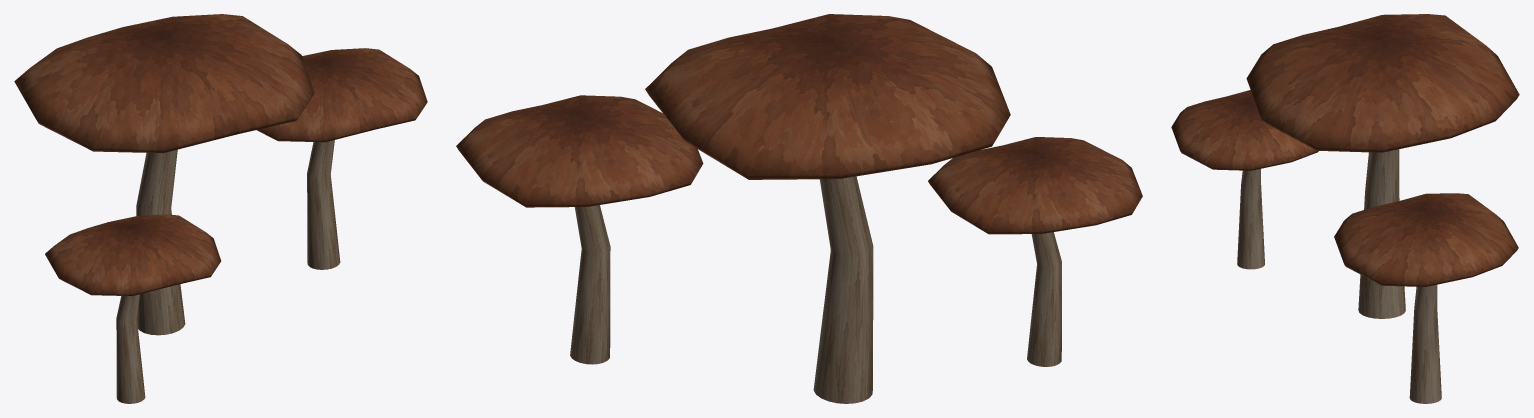
The picture shows the model from 3 angles, left to right: view 1: azimuth 30°, elevation 25°; view 2: azimuth 150°, elevation 25°; view 3: azimuth 270°, elevation 25°; orthographic projection. The views are drawn at different scales.
Visible parts, largest first — view 1: Broad umbrella cap, Broad umbrella cap.002, Broad umbrella cap.001, Curved supporting stem, Curved supporting stem.001, Curved supporting stem.002; view 2: Broad umbrella cap, Broad umbrella cap.001, Broad umbrella cap.002, Curved supporting stem, Curved supporting stem.001, Curved supporting stem.002; view 3: Broad umbrella cap, Broad umbrella cap.001, Broad umbrella cap.002, Curved supporting stem, Curved supporting stem.001, Curved supporting stem.002.
Part boxes in pixels (bbox=[...]): Broad umbrella cap: bbox=[14, 14, 314, 153]; Broad umbrella cap.002: bbox=[45, 214, 221, 296]; Broad umbrella cap.001: bbox=[256, 48, 427, 142]; Curved supporting stem: bbox=[136, 149, 185, 335]; Curved supporting stem.001: bbox=[307, 140, 340, 269]; Curved supporting stem.002: bbox=[116, 294, 145, 403]; Broad umbrella cap: bbox=[645, 14, 1010, 179]; Broad umbrella cap.001: bbox=[456, 95, 703, 207]; Broad umbrella cap.002: bbox=[928, 137, 1142, 234]; Curved supporting stem: bbox=[813, 176, 873, 403]; Curved supporting stem.001: bbox=[570, 205, 610, 364]; Curved supporting stem.002: bbox=[1027, 232, 1061, 366]; Broad umbrella cap: bbox=[1246, 14, 1519, 152]; Broad umbrella cap.001: bbox=[1334, 193, 1518, 286]; Broad umbrella cap.002: bbox=[1171, 90, 1318, 170]; Curved supporting stem: bbox=[1358, 149, 1405, 318]; Curved supporting stem.001: bbox=[1409, 284, 1441, 403]; Curved supporting stem.002: bbox=[1237, 169, 1264, 269].
Size of the model in its own units: 2.31 by 1.4 by 1.6.
1 material, 1 textured.
